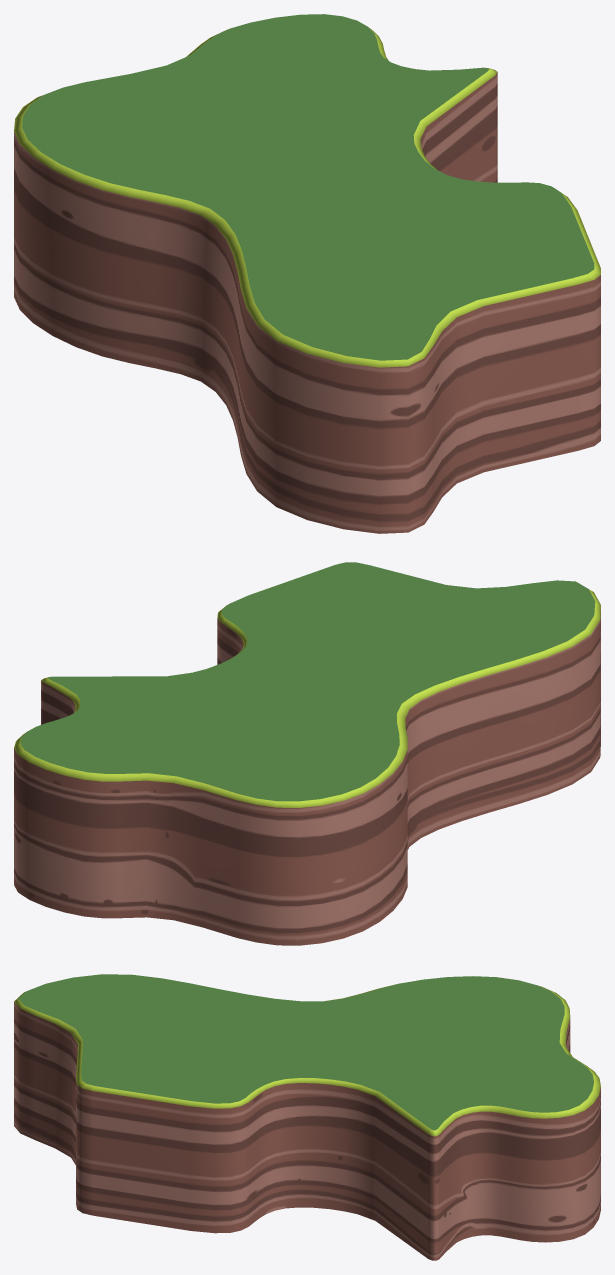
The model's file is grasschunk8.glb.
3 renders of one model, top to bottom at view 1: azimuth 30°, elevation 25°; view 2: azimuth 150°, elevation 25°; view 3: azimuth 270°, elevation 25°, orthographic. The views are drawn at different scales.
Parts seen in each view (by area): view 1: Plate_Curved_Var16_05_Forest_mat_01_0; view 2: Plate_Curved_Var16_05_Forest_mat_01_0; view 3: Plate_Curved_Var16_05_Forest_mat_01_0.
Boxes of the visible parts, bbox=[...] form: Plate_Curved_Var16_05_Forest_mat_01_0: bbox=[14, 14, 600, 533]; Plate_Curved_Var16_05_Forest_mat_01_0: bbox=[14, 562, 600, 945]; Plate_Curved_Var16_05_Forest_mat_01_0: bbox=[14, 974, 600, 1260].
Bounding box in the file's own units: 0.0883 × 0.0326 × 0.1357.
1 material, 1 textured.
